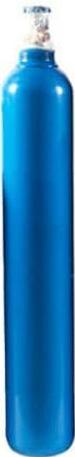cylinder: (0, 1, 75, 457)
